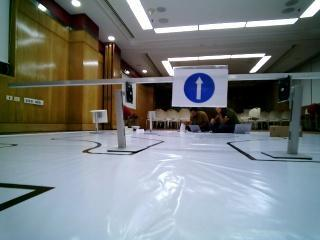straight: (172, 68, 225, 105)
